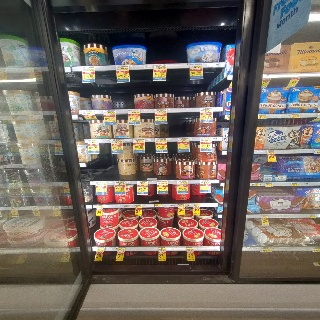All PRICE TAGS: (259, 246, 271, 252), (81, 66, 95, 71), (116, 65, 129, 70), (155, 108, 167, 113), (190, 63, 202, 68), (154, 64, 166, 69), (201, 107, 212, 112), (155, 138, 167, 142), (133, 138, 145, 142), (86, 139, 98, 143), (128, 109, 140, 113), (103, 110, 115, 114), (312, 246, 320, 252), (157, 180, 168, 184), (200, 137, 211, 141), (178, 138, 189, 142), (111, 139, 122, 143), (84, 110, 95, 114), (115, 181, 125, 185), (201, 180, 211, 184), (178, 180, 188, 184), (192, 203, 201, 207), (96, 247, 105, 251), (96, 181, 105, 185), (186, 247, 194, 251), (158, 247, 166, 251), (117, 247, 125, 251), (265, 183, 273, 187), (267, 150, 275, 154), (258, 115, 266, 119), (292, 114, 300, 118), (165, 204, 175, 207), (138, 181, 148, 184), (54, 206, 61, 210), (32, 206, 39, 210), (309, 214, 316, 218), (261, 214, 268, 218), (291, 182, 298, 186), (177, 204, 185, 207), (135, 204, 143, 207), (95, 205, 103, 208), (154, 204, 162, 207), (314, 150, 320, 154), (10, 207, 17, 210), (253, 183, 260, 186), (124, 205, 131, 207)
